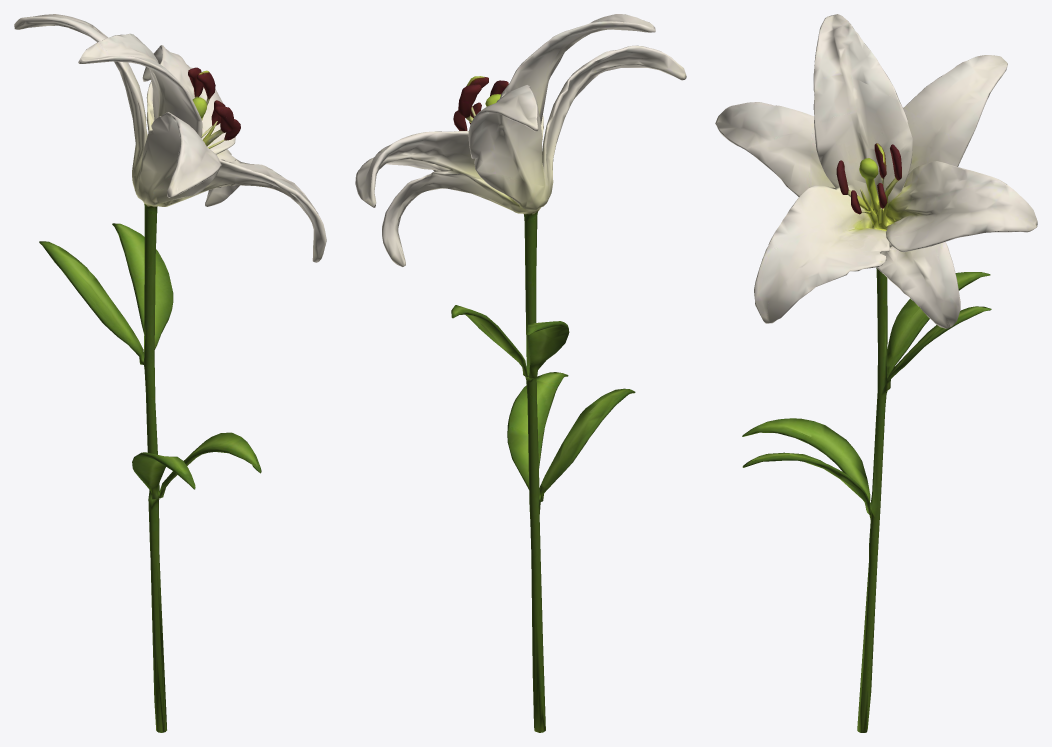
The model's file is white_lily.glb.
3 renders of one model, left to right at view 1: azimuth 30°, elevation 25°; view 2: azimuth 150°, elevation 25°; view 3: azimuth 270°, elevation 25°, orthographic. The views are drawn at different scales.
Visible parts, largest first — view 1: tripo_node_5895e931-c95c-4e2f-a59f-8bfbf14b7bdd; view 2: tripo_node_5895e931-c95c-4e2f-a59f-8bfbf14b7bdd; view 3: tripo_node_5895e931-c95c-4e2f-a59f-8bfbf14b7bdd.
Part boxes in pixels (bbox=[...]): tripo_node_5895e931-c95c-4e2f-a59f-8bfbf14b7bdd: bbox=[14, 14, 326, 732]; tripo_node_5895e931-c95c-4e2f-a59f-8bfbf14b7bdd: bbox=[355, 14, 686, 732]; tripo_node_5895e931-c95c-4e2f-a59f-8bfbf14b7bdd: bbox=[715, 14, 1037, 732].
Bounding box in the file's own units: 0.3246 × 0.9998 × 0.4316.
1 material, 1 textured.
